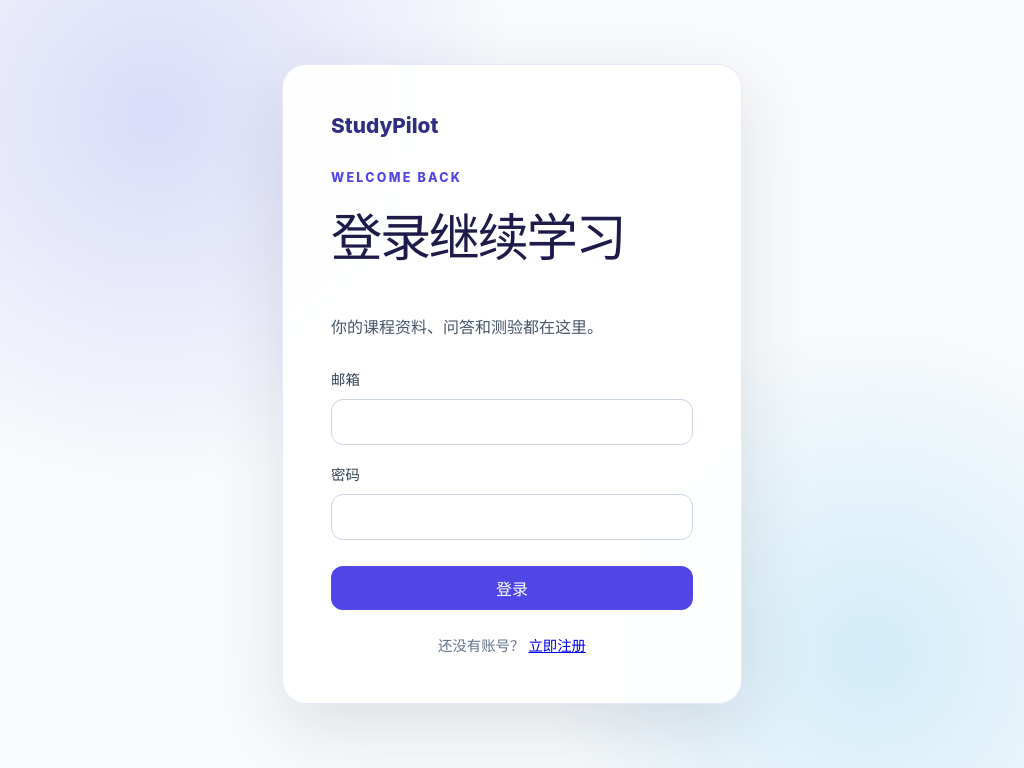
Test case: authentication › stores a successful login token and opens courses
The image size is (1024, 768).
Type "student@example.com" into the field labelled "邮箱" at {"x": 512, "y": 422}, box [331, 399, 693, 445]
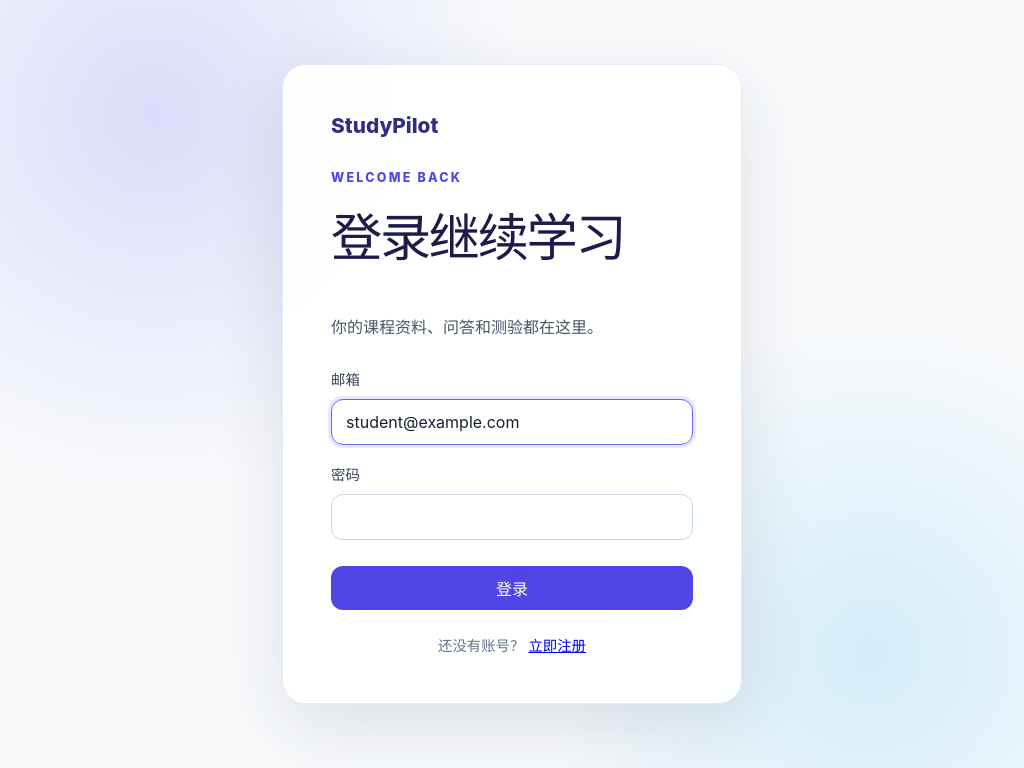
Type "correct-horse-42" into the password field labelled "密码" at {"x": 512, "y": 517}, box [331, 494, 693, 540]
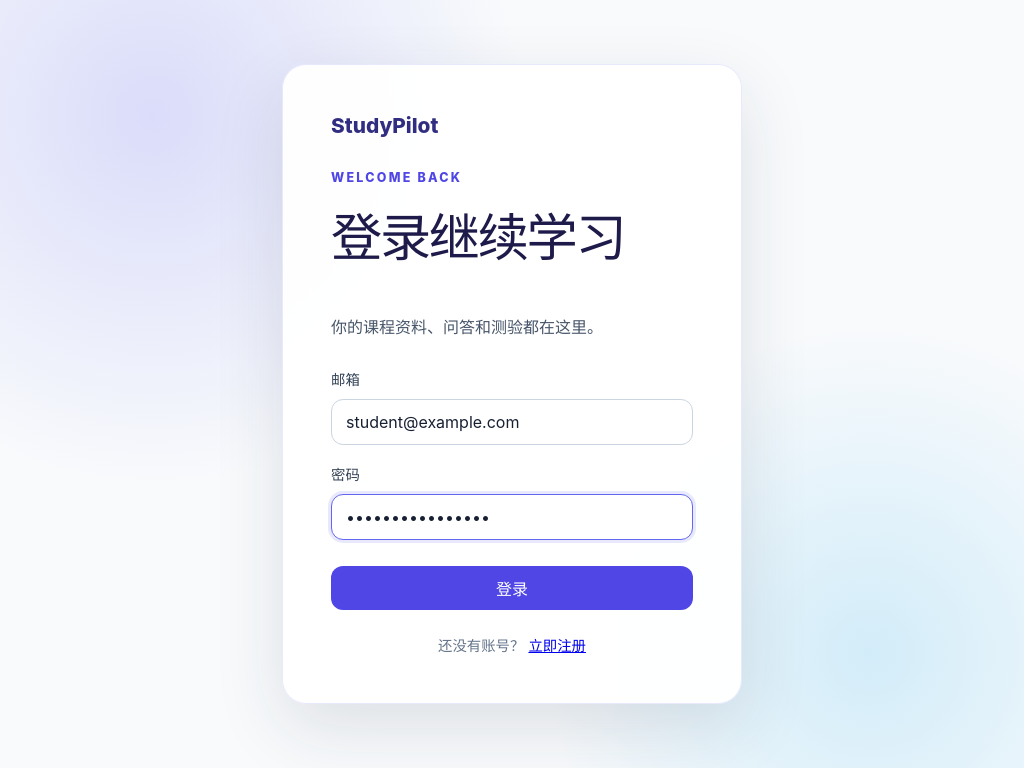
Click the button "登录" at {"x": 512, "y": 588}, box [331, 566, 693, 610]
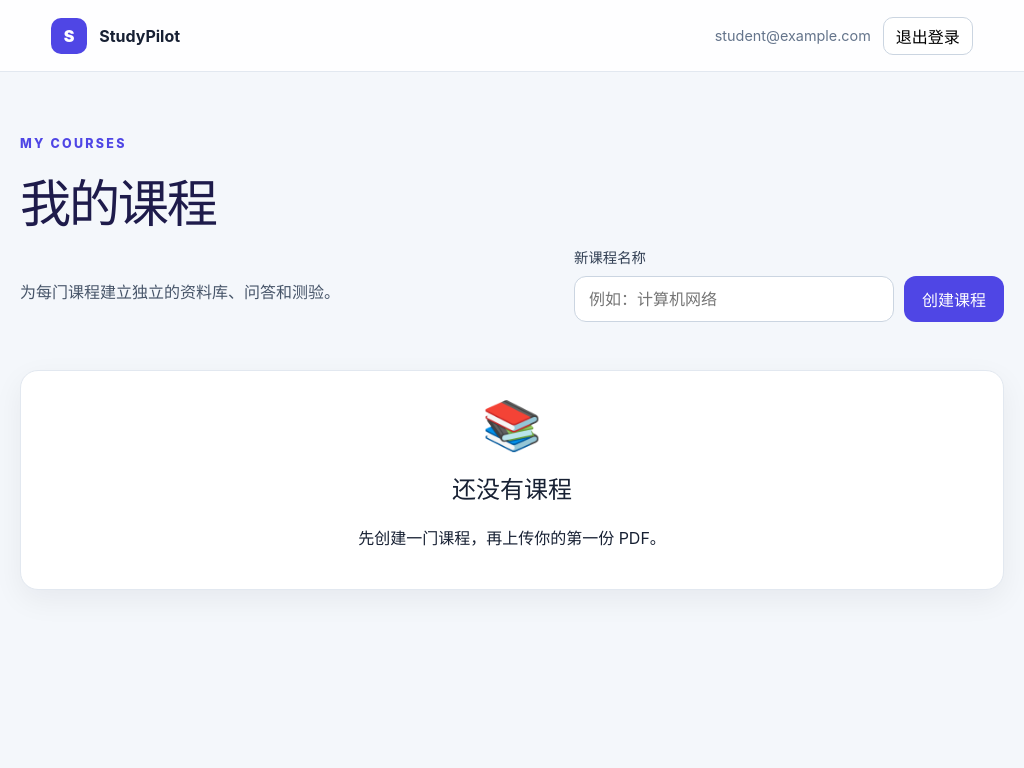
expect the heading "我的课程" is shown: met, box [20, 172, 216, 234]
